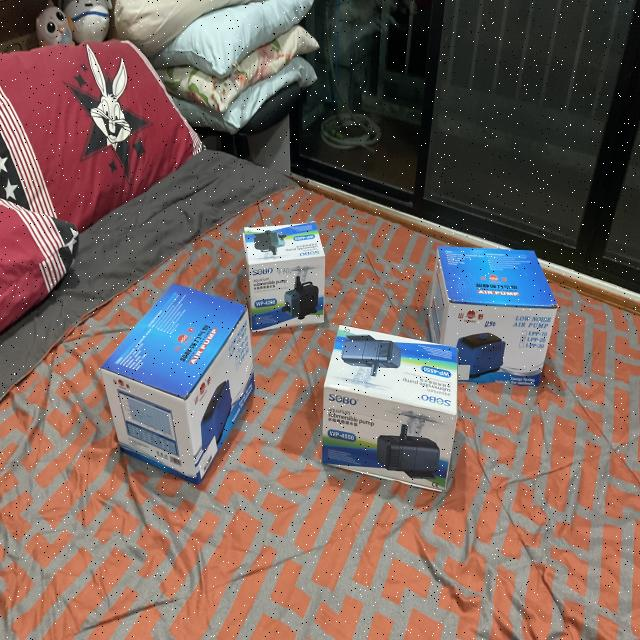SOBO_WP_4200: (312, 320, 465, 494), (238, 205, 330, 342)
YAMANO_LPP_20: (98, 270, 264, 487), (428, 233, 560, 381)
